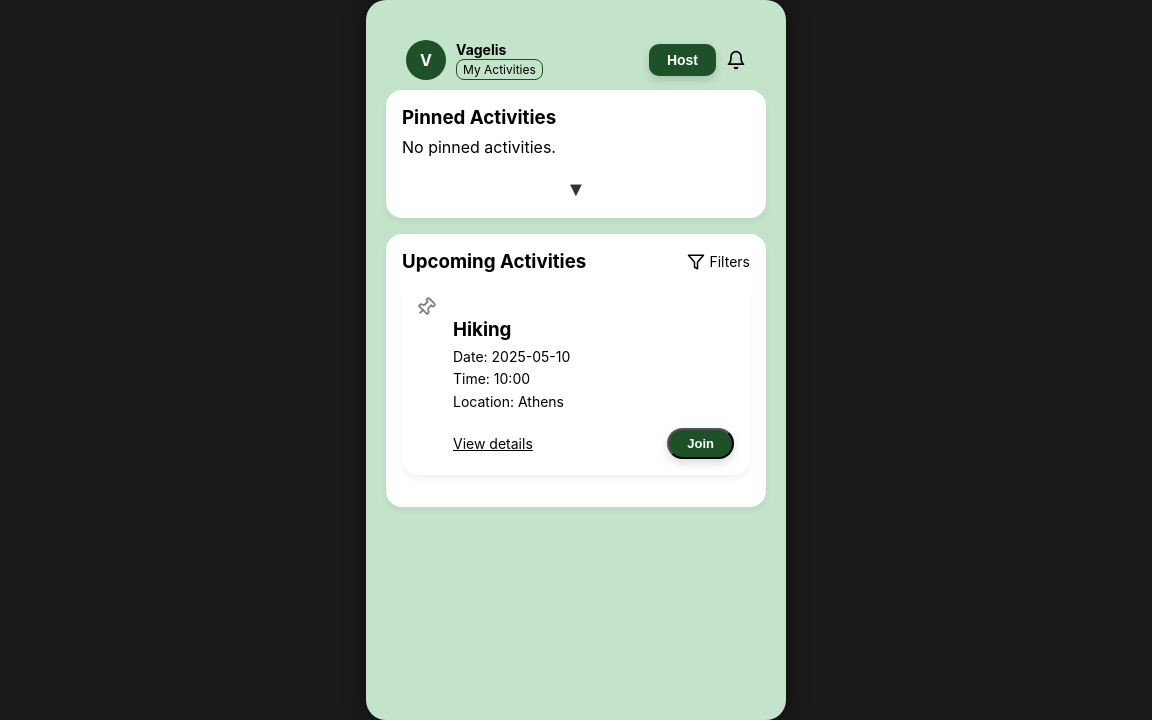
Join Activity flow › sends a join request successfully
Πατάμε το JOIN κουμπί
Click the button "Join" at {"x": 701, "y": 444}, box [667,428,734,459]
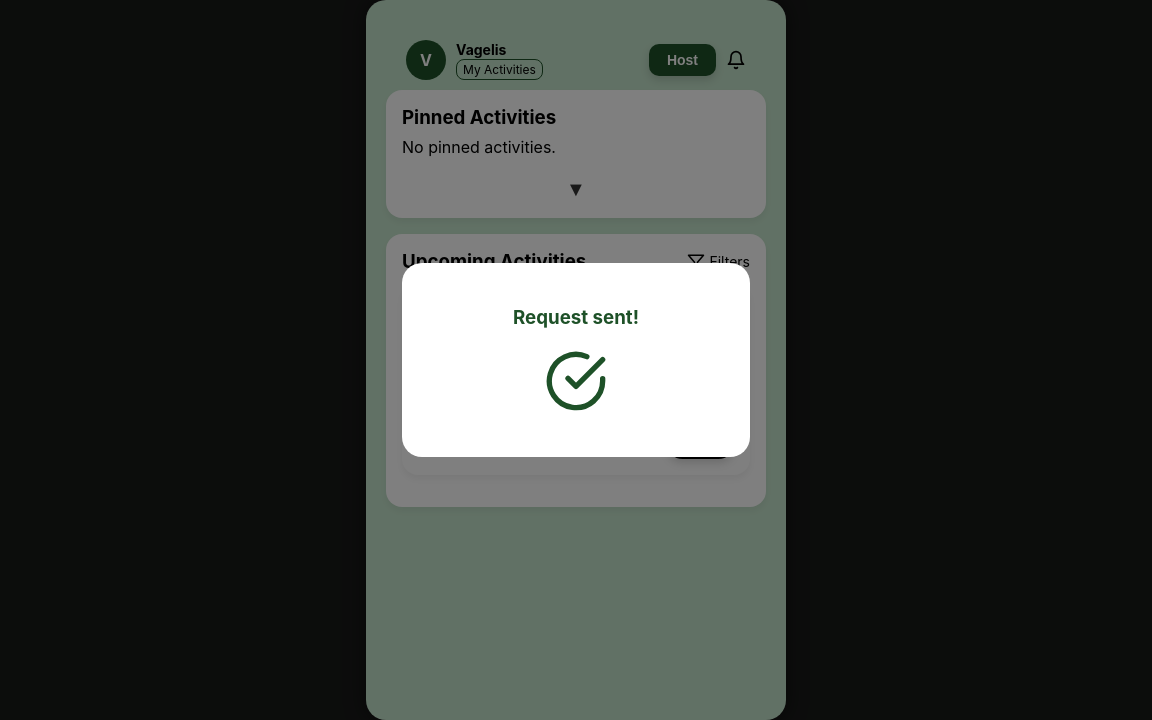
Expected: the heading "Request sent!" is shown, [513,306,639,329]
